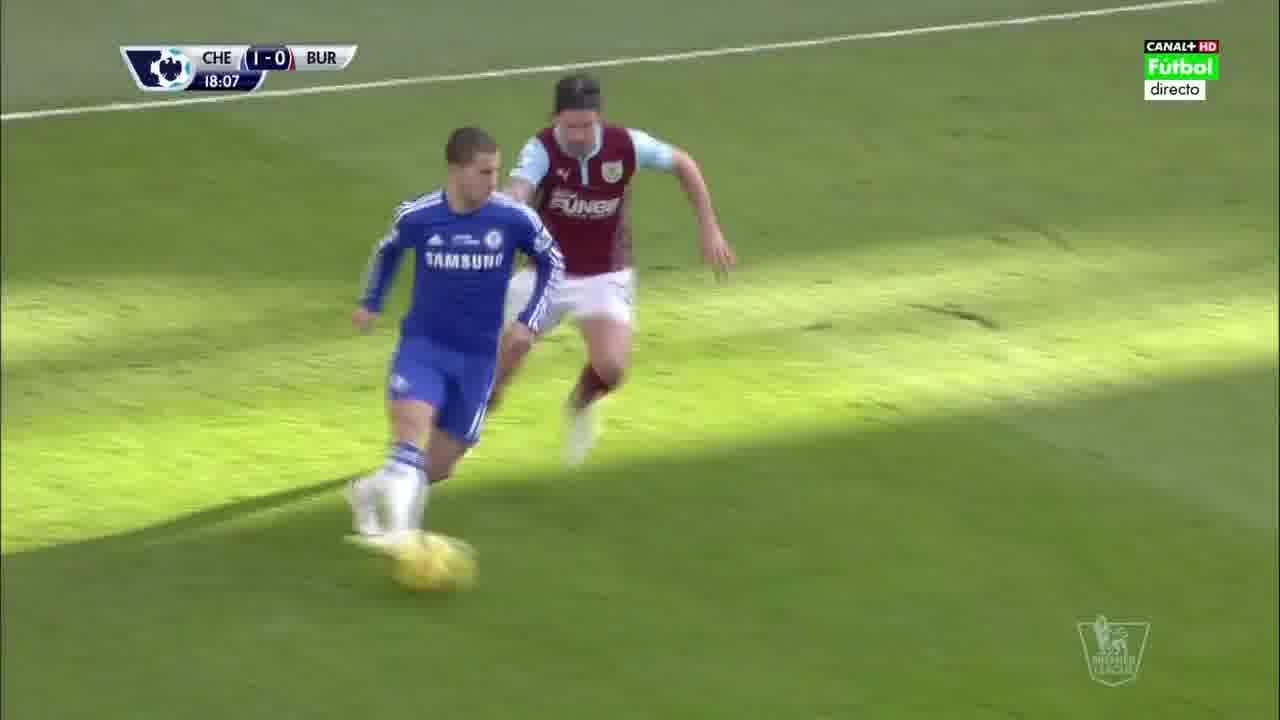football: (398, 534, 479, 599)
